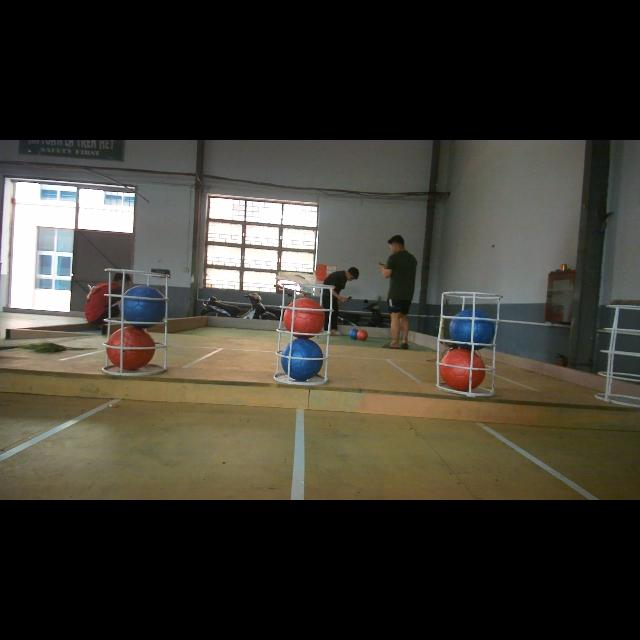B: (117, 285, 165, 329), (449, 308, 495, 349), (280, 338, 324, 380)
R: (106, 324, 156, 370), (442, 348, 486, 390), (284, 298, 326, 340)
